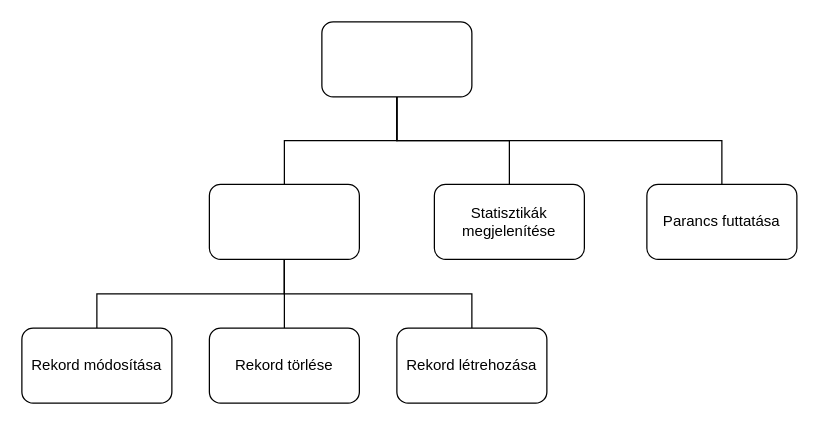
The diagram is 819 pixels wide and 425 high, and some of its shapes have lost their labels. The shapes that lost their labels are listed below. From the top down, each one's box as (x1, y1, x2, y2) in pixels, then its label:
(321, 21, 472, 97): Admin kezelőfelület
(208, 183, 359, 259): Tábla kiválasztása
